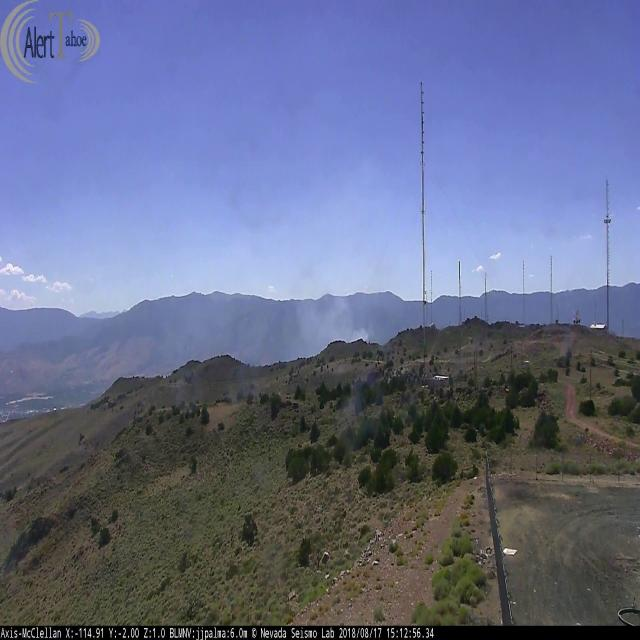smoke: (125, 21, 382, 370)
